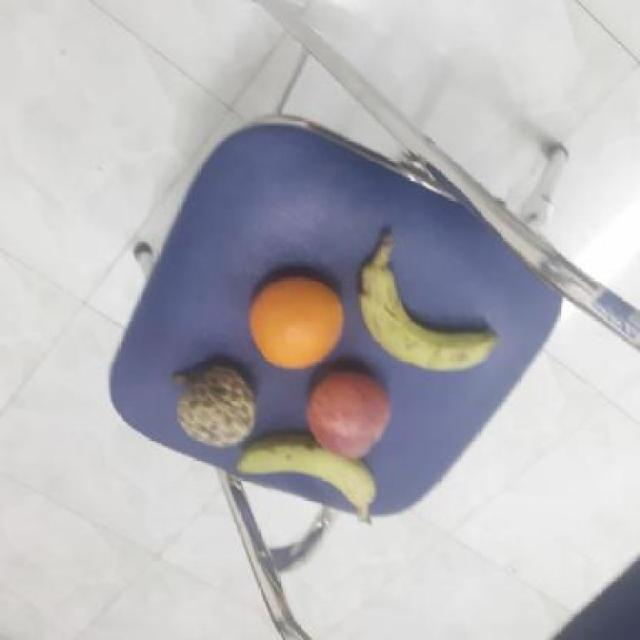apple: (304, 371, 395, 465)
banana: (357, 259, 498, 372), (233, 439, 382, 516)
oren: (246, 274, 346, 368)
sugar apple: (175, 362, 259, 448)
